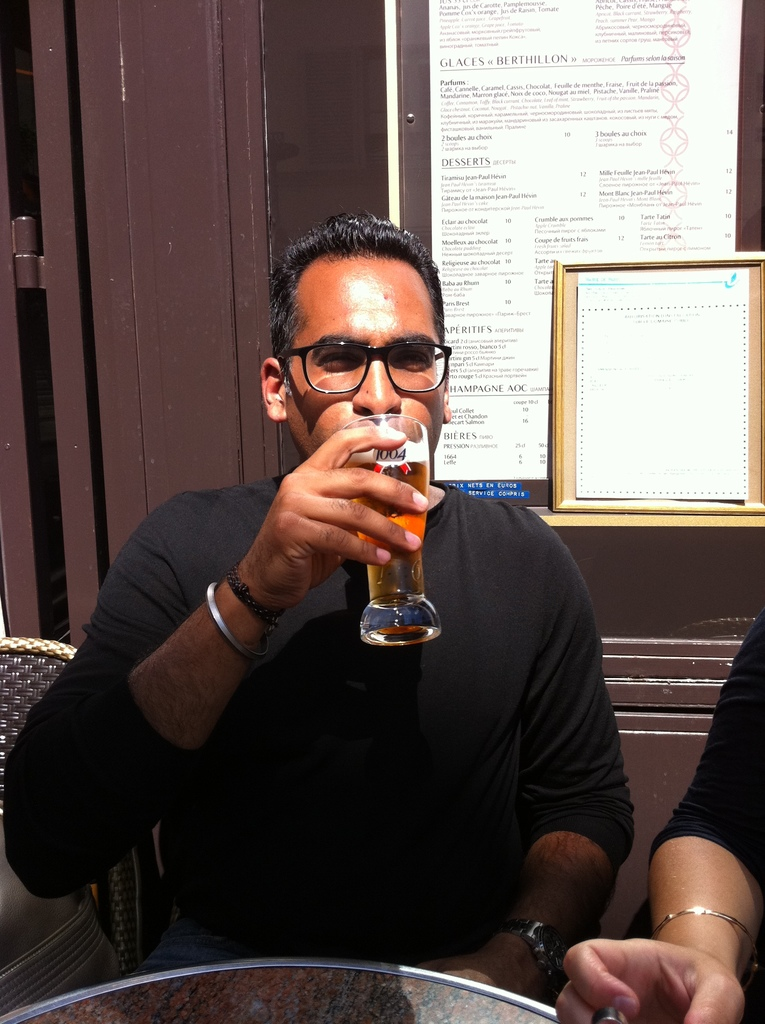Beer: (338, 414, 440, 642)
